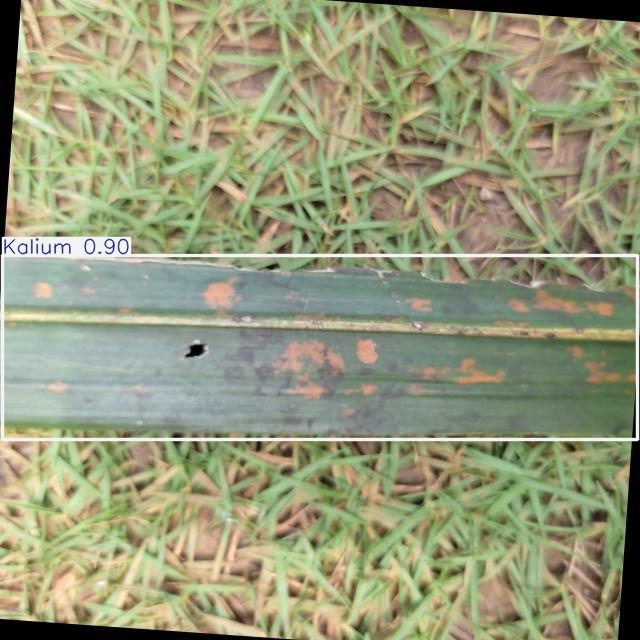Kalium: (3, 256, 637, 440)
